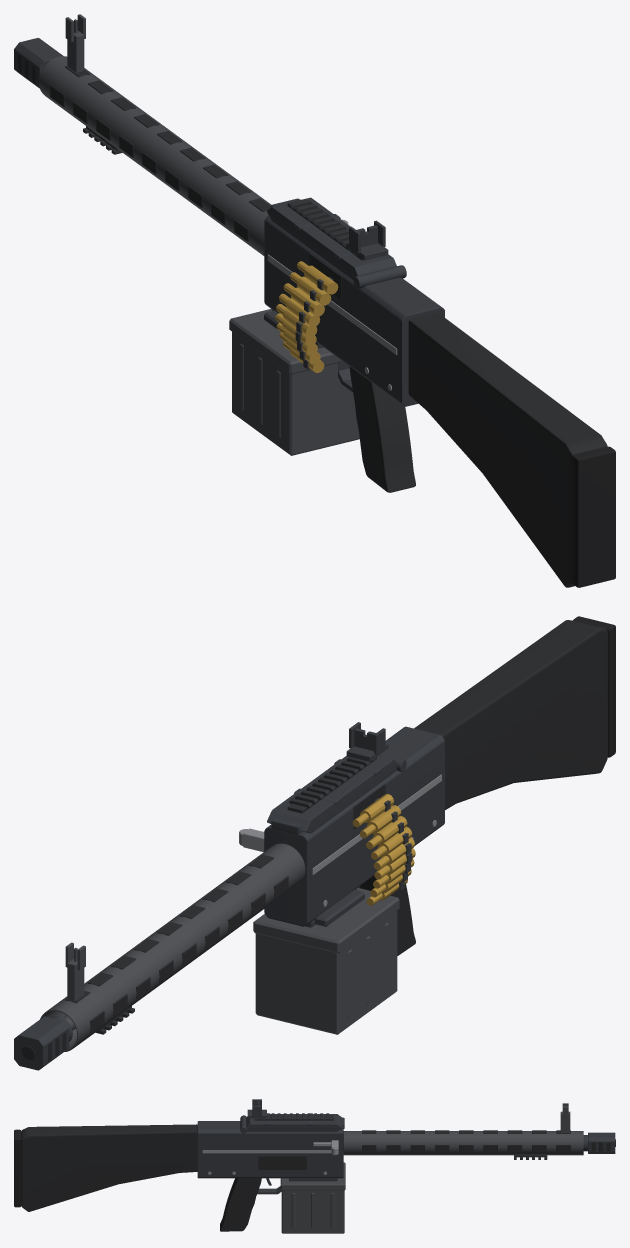
File: wpn_gale_mg.glb
3 views of the same model, one above another, from view 1: azimuth 30°, elevation 25°; view 2: azimuth 150°, elevation 25°; view 3: azimuth 270°, elevation 25° (orthographic). The views are drawn at different scales.
Parts seen in each view (by area): view 1: Stock, Jacket, AmmoBox, Receiver, StockPad, Grip, AmmoBoxBelt, FeedCover, MuzzleBrake, TopRail, ReceiverDetails, RearLeaf; view 2: Stock, AmmoBox, Jacket, Receiver, AmmoBoxBelt, FeedCover, MuzzleBrake, TopRail, StockPad, ReceiverDetails, RearLeaf, Grip; view 3: Stock, Jacket, Receiver, AmmoBox, Grip, FeedCover, ReceiverDetails, MuzzleBrake, StockPad, TopRail, RearLeaf, ChargingHandle.
Boxes of the visible parts, x1=… form: Stock: x1=408, y1=313, x2=607, y2=587; Jacket: x1=39, y1=14, x2=271, y2=255; AmmoBox: x1=229, y1=309, x2=359, y2=455; Receiver: x1=264, y1=215, x2=444, y2=406; StockPad: x1=572, y1=446, x2=615, y2=587; Grip: x1=349, y1=366, x2=415, y2=492; AmmoBoxBelt: x1=275, y1=261, x2=338, y2=372; FeedCover: x1=267, y1=197, x2=406, y2=289; MuzzleBrake: x1=14, y1=38, x2=62, y2=88; TopRail: x1=287, y1=199, x2=363, y2=260; ReceiverDetails: x1=267, y1=253, x2=397, y2=390; RearLeaf: x1=346, y1=220, x2=388, y2=260; Stock: x1=414, y1=620, x2=607, y2=809; AmmoBox: x1=253, y1=888, x2=399, y2=1034; Jacket: x1=40, y1=843, x2=305, y2=1051; Receiver: x1=264, y1=726, x2=444, y2=927; AmmoBoxBelt: x1=352, y1=794, x2=415, y2=905; FeedCover: x1=267, y1=753, x2=406, y2=834; MuzzleBrake: x1=14, y1=1016, x2=72, y2=1070; TopRail: x1=287, y1=757, x2=376, y2=813; StockPad: x1=573, y1=616, x2=615, y2=757; ReceiverDetails: x1=312, y1=774, x2=441, y2=906; RearLeaf: x1=346, y1=722, x2=388, y2=761; Grip: x1=360, y1=876, x2=415, y2=955; Stock: x1=21, y1=1124, x2=197, y2=1211; Jacket: x1=343, y1=1103, x2=583, y2=1159; Receiver: x1=197, y1=1121, x2=343, y2=1181; AmmoBox: x1=280, y1=1162, x2=345, y2=1233; Grip: x1=220, y1=1178, x2=261, y2=1231; FeedCover: x1=240, y1=1113, x2=344, y2=1133; ReceiverDetails: x1=202, y1=1150, x2=331, y2=1174; MuzzleBrake: x1=583, y1=1132, x2=615, y2=1153; StockPad: x1=14, y1=1129, x2=21, y2=1207; TopRail: x1=254, y1=1113, x2=333, y2=1120; RearLeaf: x1=247, y1=1099, x2=266, y2=1118; ChargingHandle: x1=313, y1=1140, x2=338, y2=1154.
Bounding box in the file's own units: 0.1105 × 0.2302 × 0.9899.
